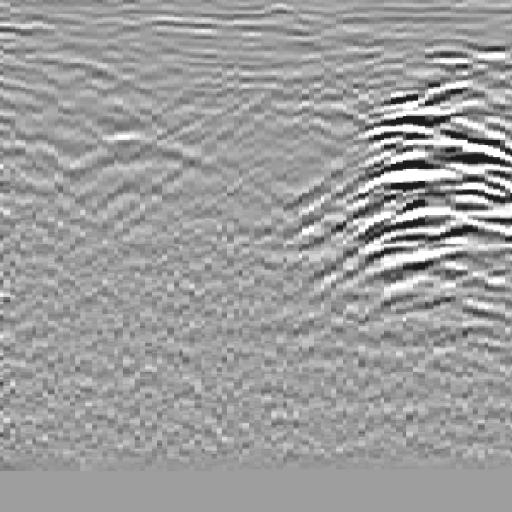metalic: (309, 43, 509, 371)
